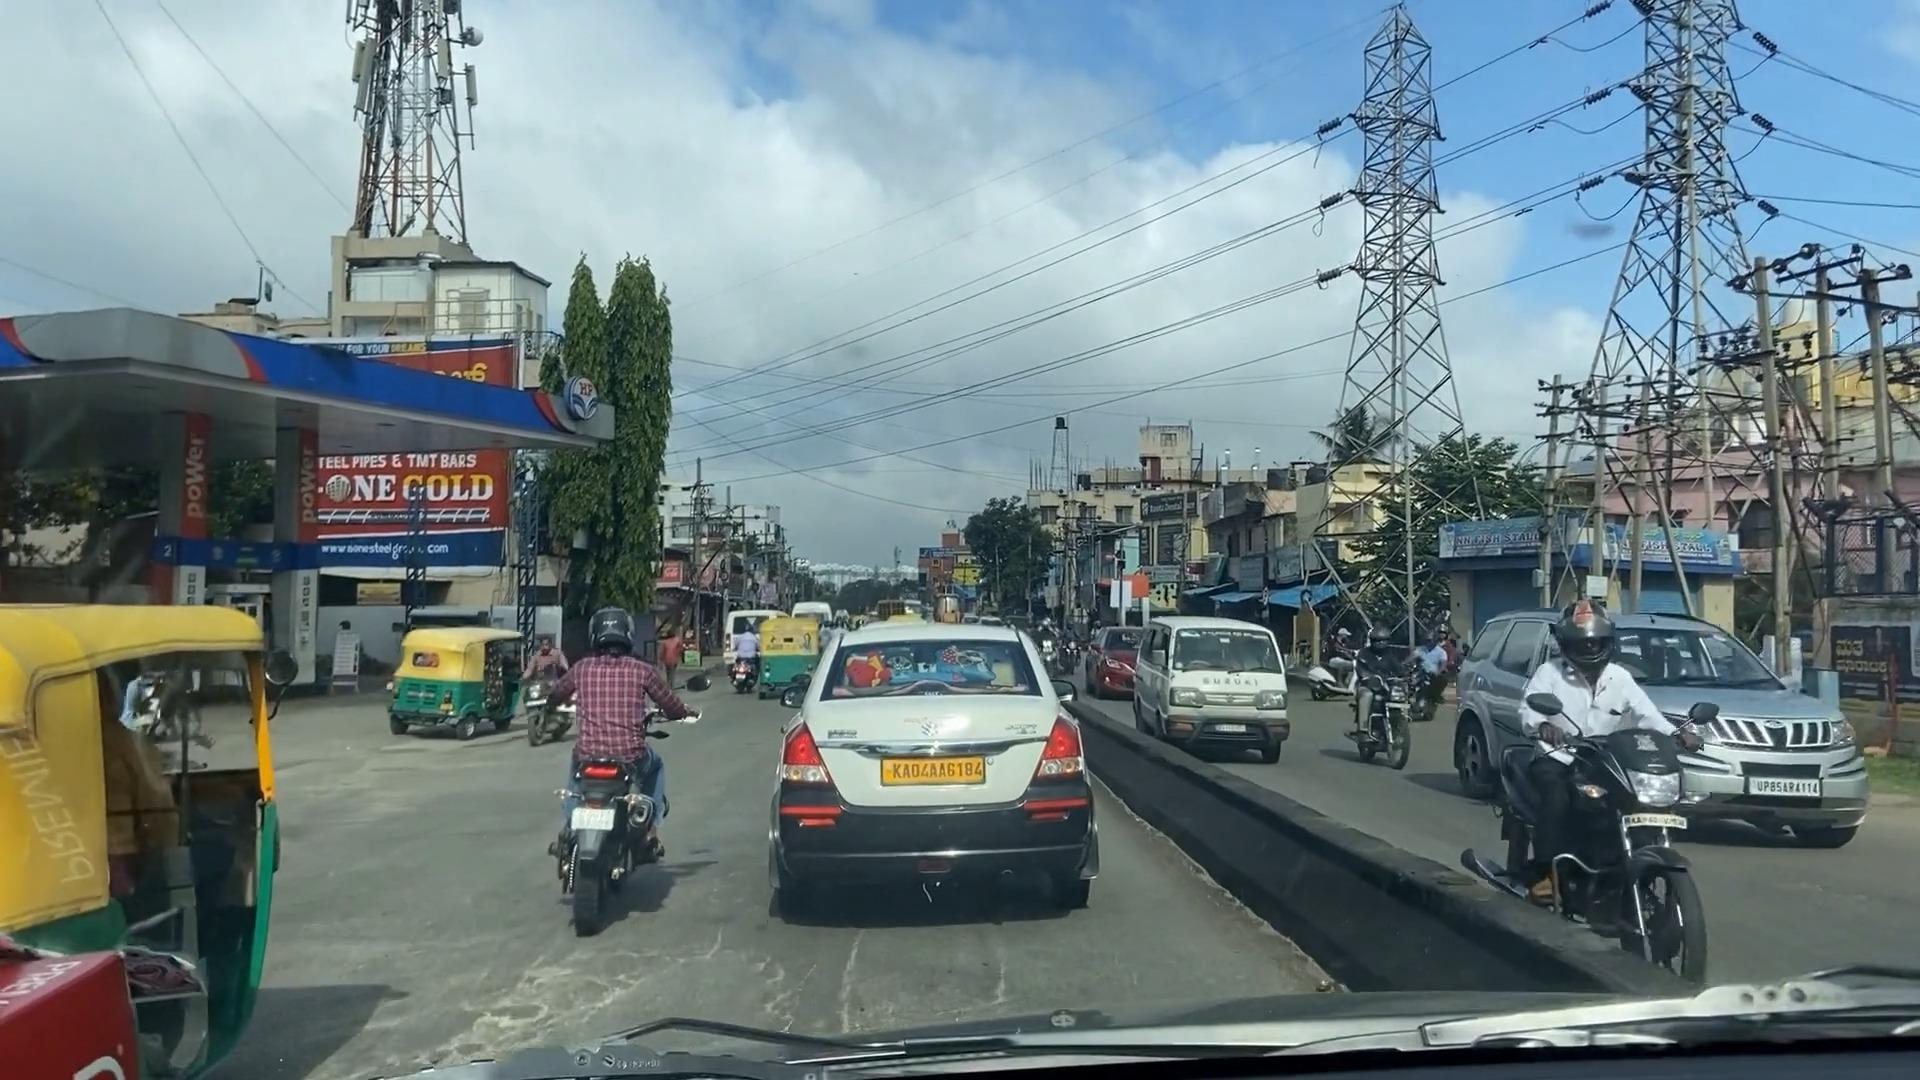LMV: (531, 597, 658, 905)
RoadDamages: (425, 905, 694, 1069)
